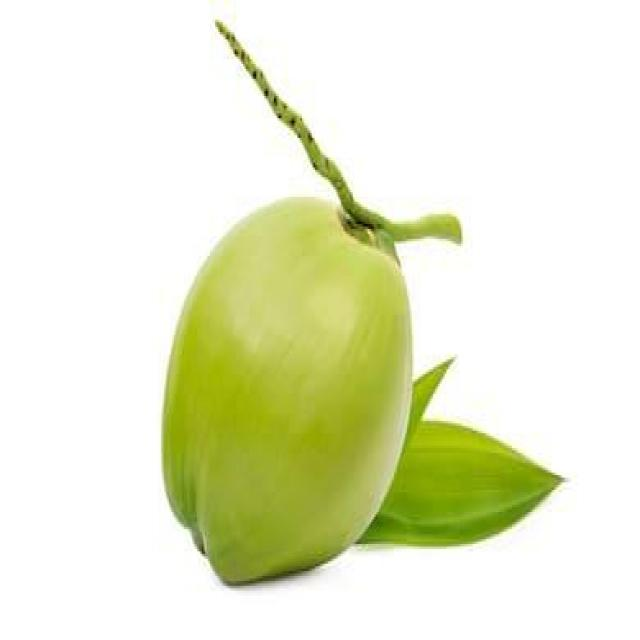coconut: (157, 189, 419, 584)
